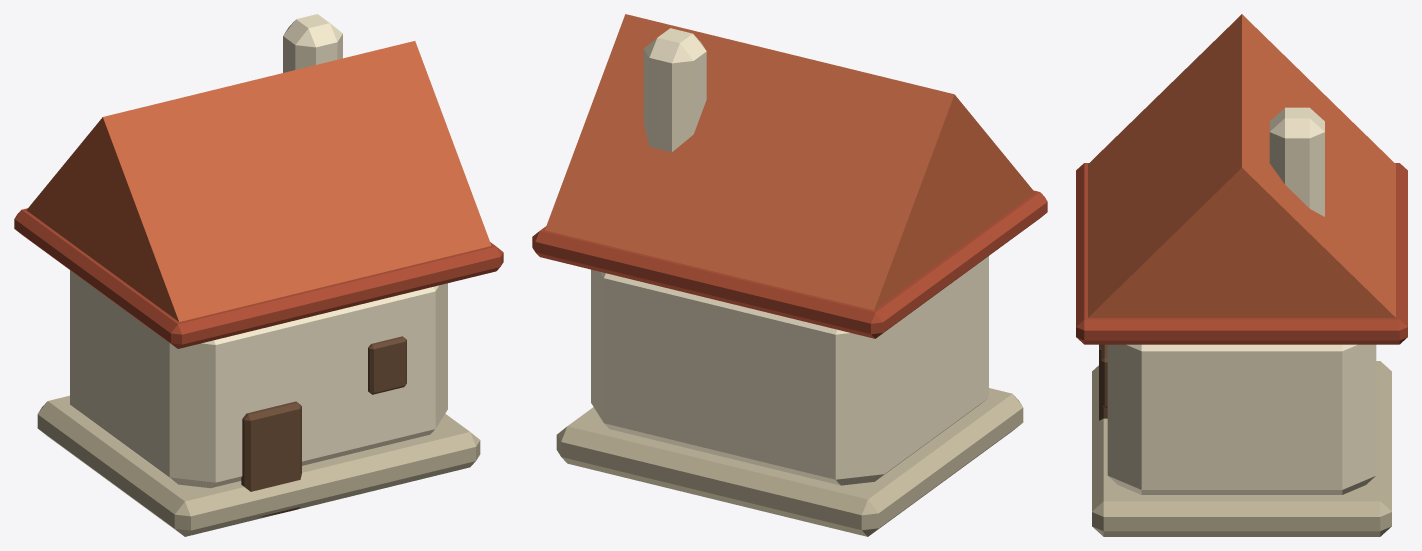
File: ns-house-2a.glb
3 renders of one model, left to right at view 1: azimuth 30°, elevation 25°; view 2: azimuth 150°, elevation 25°; view 3: azimuth 270°, elevation 25°, orthographic. The views are drawn at different scales.
Parts seen in each view (by area): view 1: Cube; view 2: Cube; view 3: Cube.
Boxes of the visible parts, <box> form: Cube: <box>14,14,503,536</box>; Cube: <box>532,14,1047,536</box>; Cube: <box>1076,14,1407,536</box>.
Bounding box in the file's own units: 0.49 × 0.55 × 0.42.
